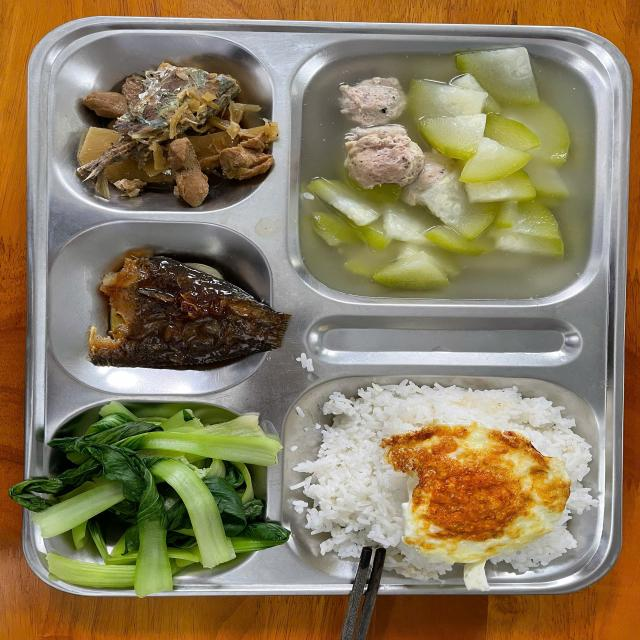caithia: (31, 406, 273, 588)
cakho: (76, 250, 292, 376)
canhbixanh: (297, 49, 604, 310)
salad: (312, 390, 596, 578)
thitkho: (61, 58, 280, 208)
trungluoc: (393, 432, 570, 555)
